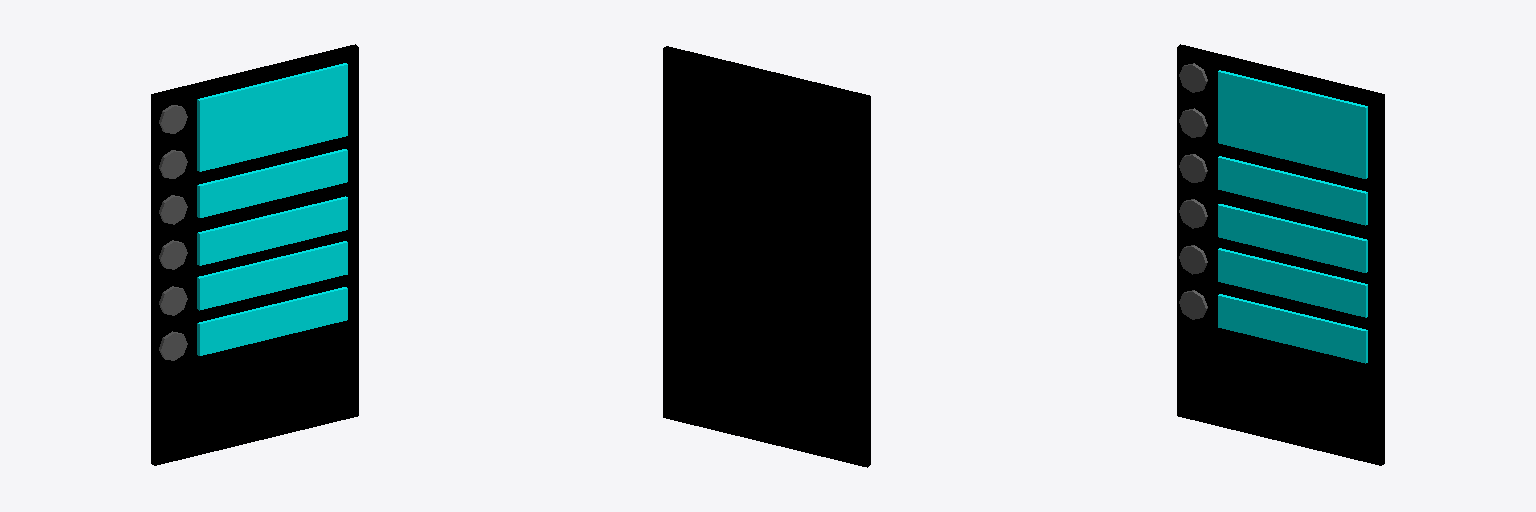
File: control.obj
3 views of the same model, side by side, from view 1: azimuth 30°, elevation 25°; view 2: azimuth 150°, elevation 25°; view 3: azimuth 330°, elevation 25° (orthographic).
Visible parts, largest first — view 1: object_1, object_12, object_10, object_11, object_8, object_9, object_2, object_5, object_4, object_6, object_3, object_7; view 2: object_1; view 3: object_1, object_12, object_8, object_10, object_9, object_11, object_7, object_3, object_4, object_5, object_2, object_6.
Part boxes in pixels (x1,y1,x2,y2): object_1: (151,44,358,465); object_12: (197,63,347,171); object_10: (197,196,347,265); object_11: (197,149,347,217); object_8: (197,287,347,355); object_9: (197,241,347,310); object_2: (159,105,187,133); object_5: (159,240,187,269); object_4: (159,195,187,224); object_6: (159,286,187,315); object_3: (159,150,187,178); object_7: (159,331,187,360); object_1: (663,46,870,467); object_1: (1177,44,1384,465); object_12: (1218,70,1367,178); object_8: (1218,294,1367,363); object_10: (1218,204,1367,272); object_9: (1218,248,1367,317); object_11: (1218,156,1367,225); object_7: (1179,290,1207,319); object_3: (1179,108,1207,137); object_4: (1179,154,1207,182); object_5: (1179,199,1207,228); object_2: (1179,63,1207,92); object_6: (1179,245,1207,274).
Size of the model in its own units: 3.79 by 6.53 by 0.1939.